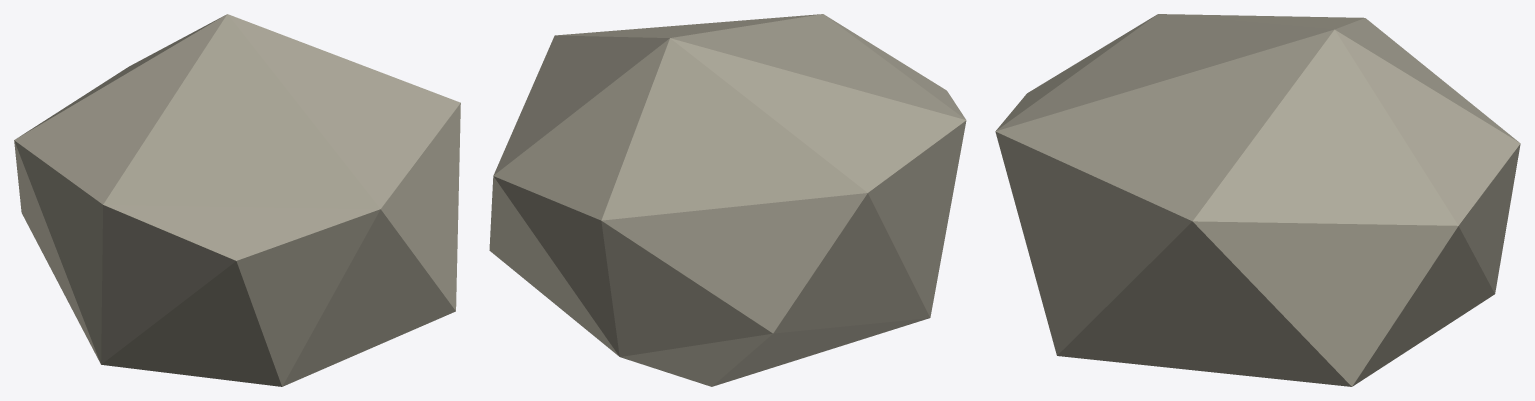
Rendered from Rock6_tex.fbx.
The picture shows the model from 3 angles, left to right: view 1: azimuth 30°, elevation 25°; view 2: azimuth 150°, elevation 25°; view 3: azimuth 270°, elevation 25°; orthographic projection. The views are drawn at different scales.
Parts seen in each view (by area): view 1: Rock6_tex; view 2: Rock6_tex; view 3: Rock6_tex.
Boxes of the visible parts, x1,y1,x2,y2 form: Rock6_tex: [14, 14, 460, 386]; Rock6_tex: [489, 14, 966, 386]; Rock6_tex: [995, 14, 1520, 386].
Size of the model in its own units: 0.2236 by 0.1829 by 0.2394.
